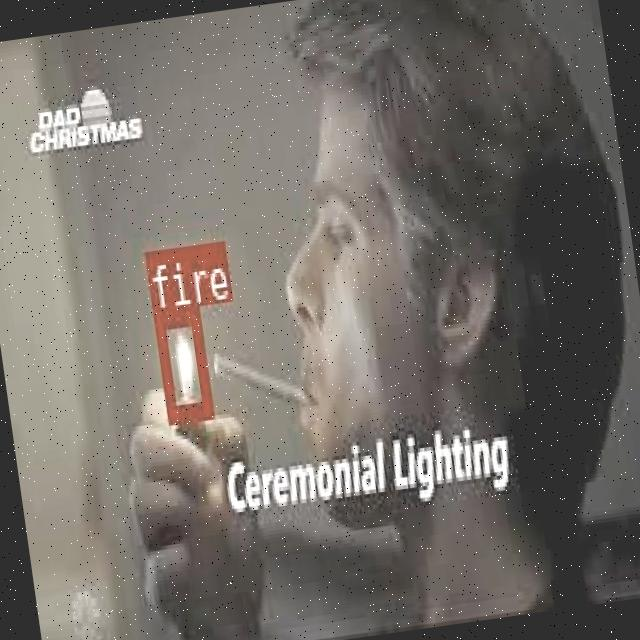fire: (152, 306, 212, 420)
